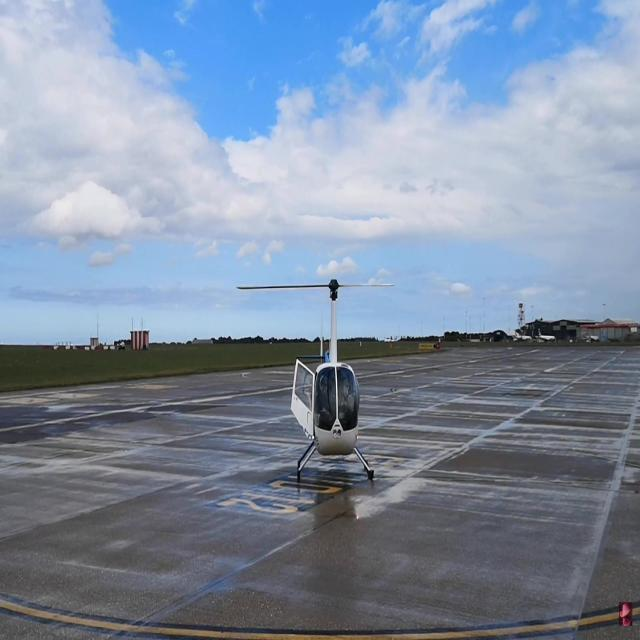CIV_HELO: (290, 278, 375, 484)
